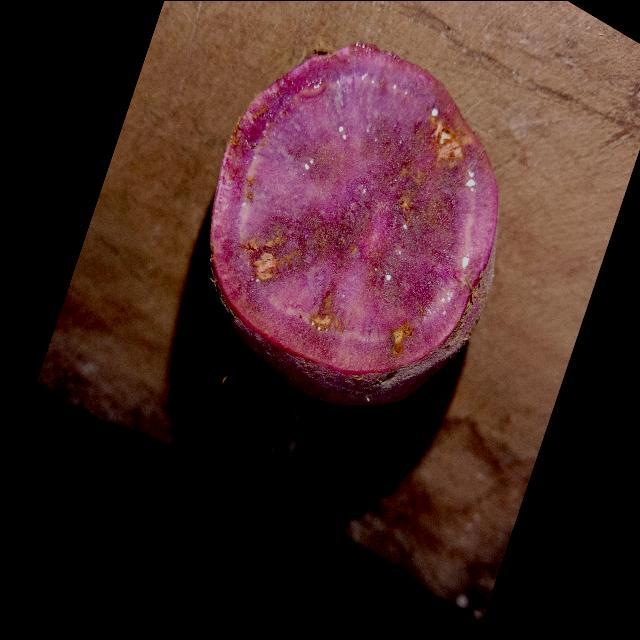Sick Sweet Potato_Tuber Rot: (211, 43, 498, 403)
